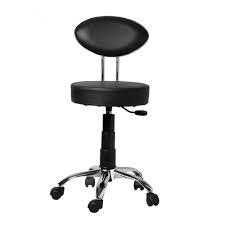chair: (50, 8, 165, 217)
